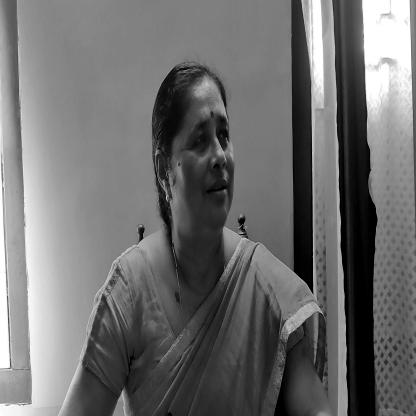Distracted: (155, 54, 240, 247)
